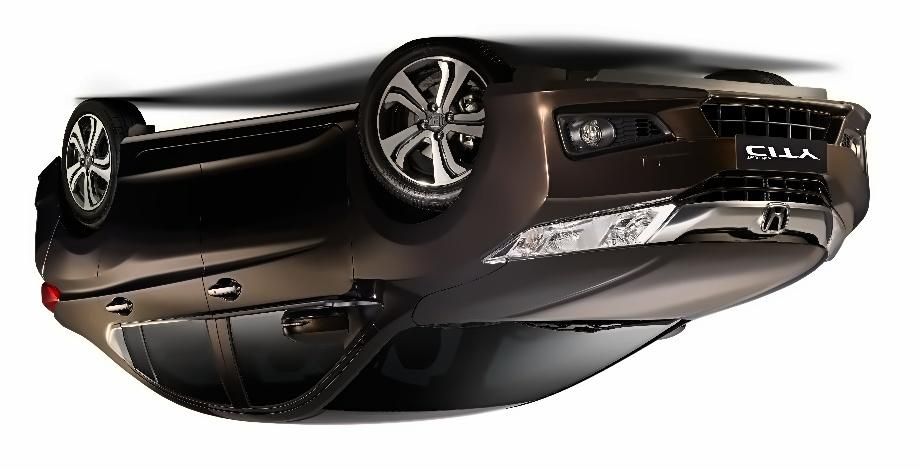Car hood: (408, 238, 830, 329)
Fender - -F-L-: (339, 105, 518, 313)
Fender - -R-L-: (43, 136, 124, 317)
Front bumper: (479, 70, 870, 220)
Headlight - -L-: (476, 189, 682, 273)
Passenger-s door - -F-L-: (199, 121, 359, 419)
Passenger-s door - -R-L-: (88, 139, 239, 417)
Rear bumper: (13, 148, 60, 275)
Rear light - -L-: (33, 275, 64, 324)
Side bumper - -L-: (118, 89, 370, 164)
Side mirror - -L-: (268, 299, 358, 354)
Side mirror - -R-: (659, 310, 692, 353)
